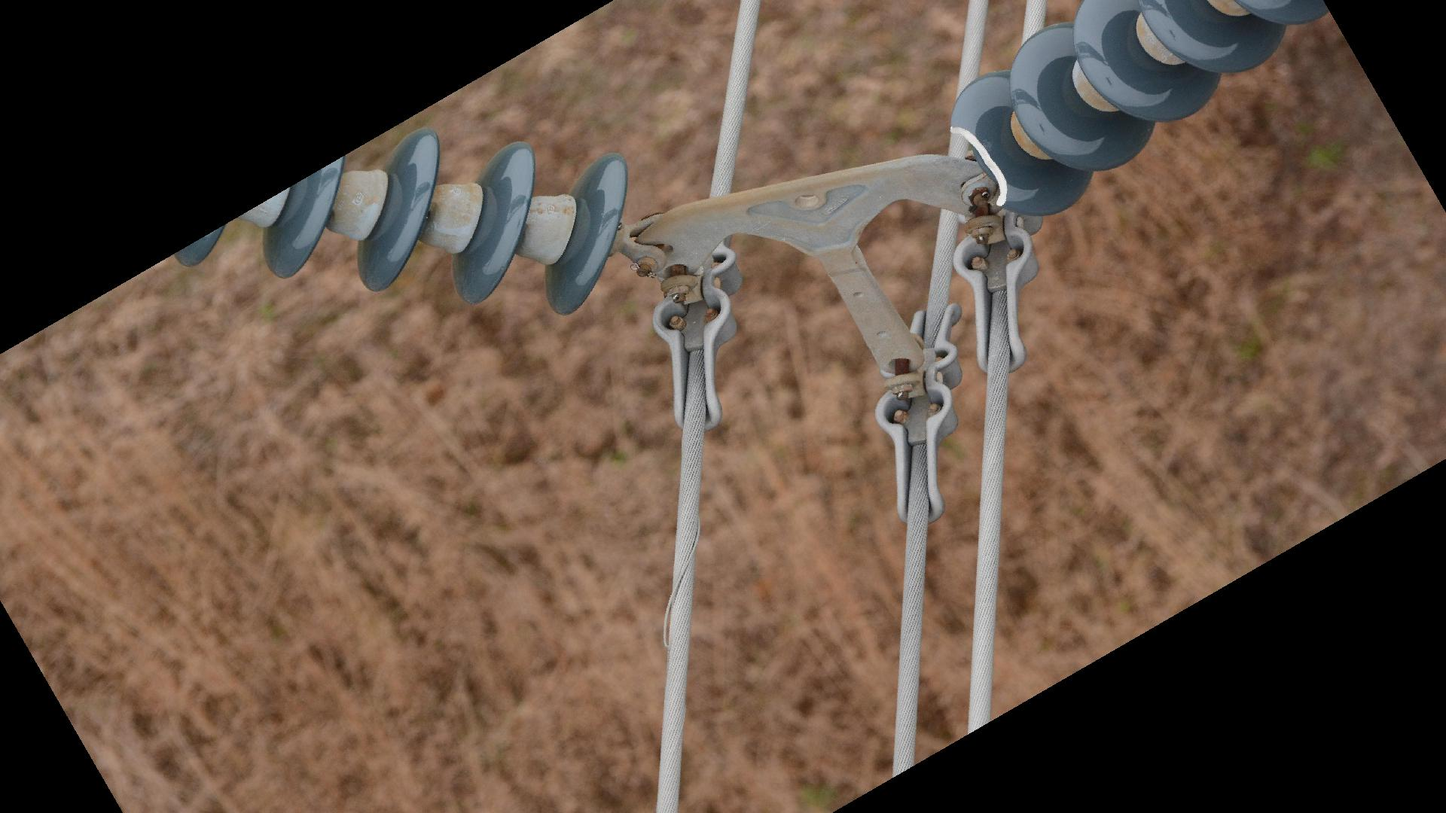insulator: (167, 130, 638, 321), (943, 1, 1328, 230)
insulator_breakage: (945, 120, 1014, 213)
